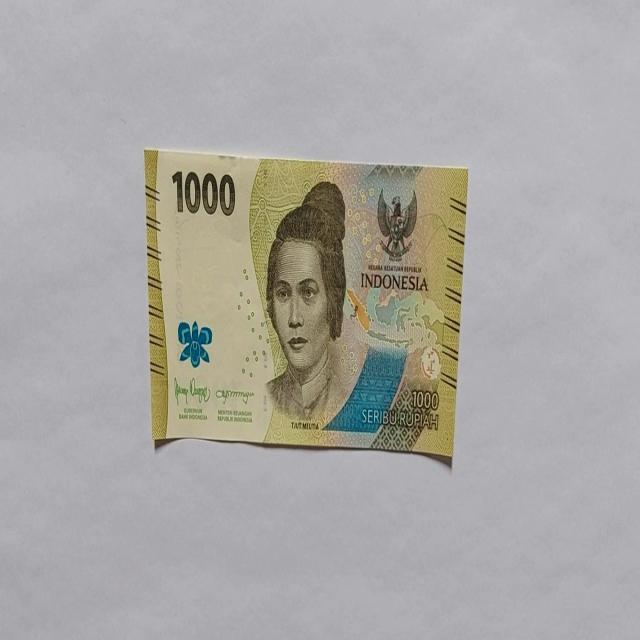seribu rupiah kertas: (144, 146, 468, 464)
